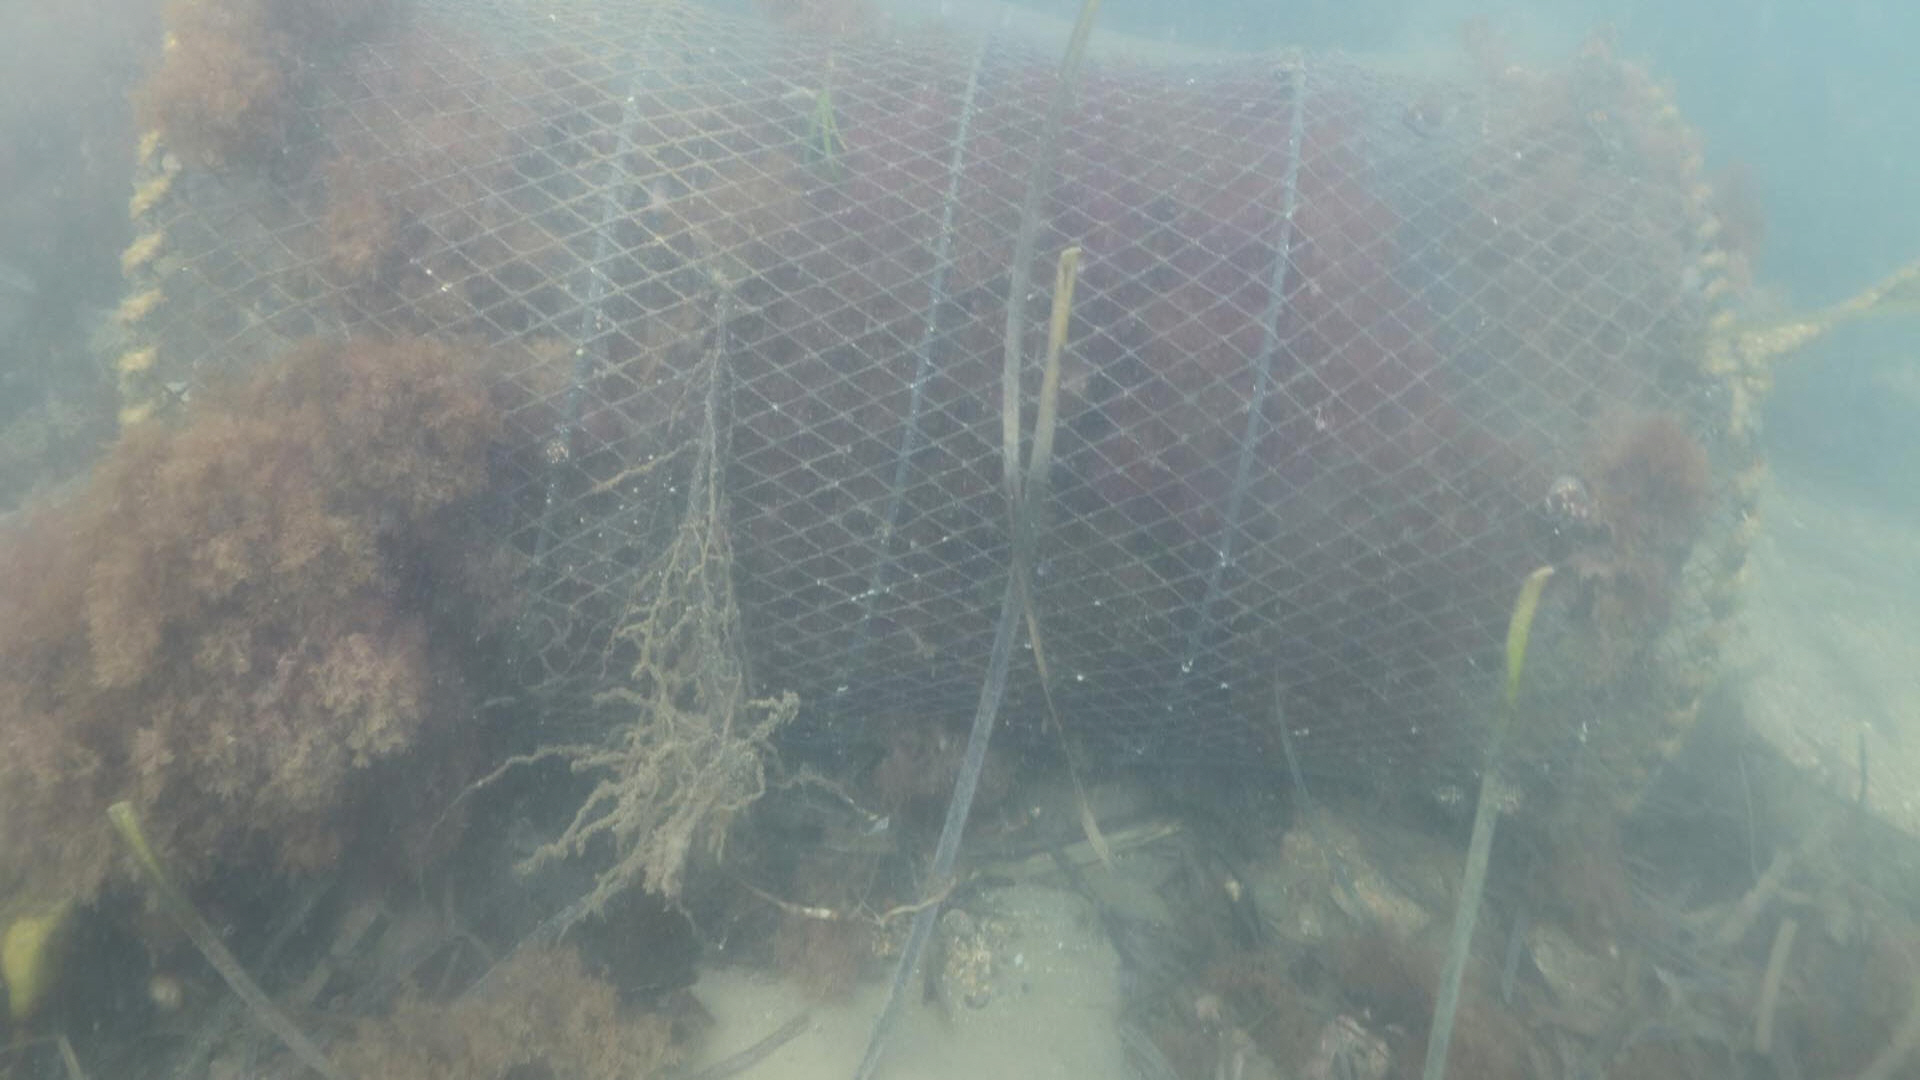bundle of ropes: (1705, 260, 1920, 381)
spring fish trap: (112, 0, 1768, 837)
